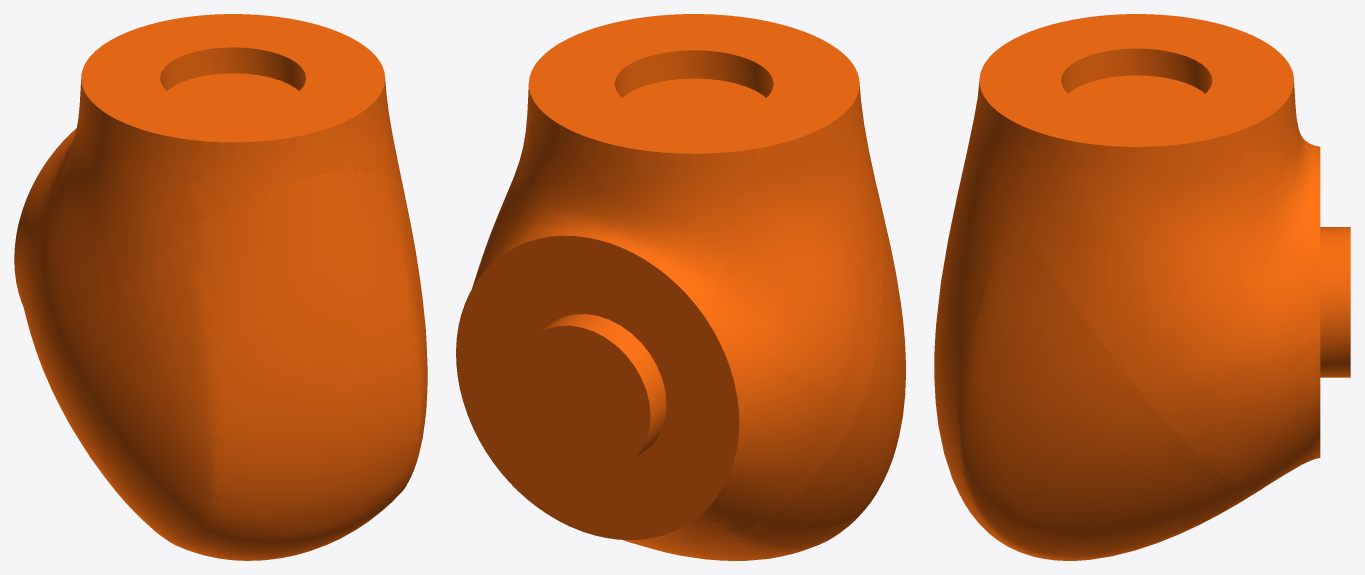
3 views of the same model, side by side, from view 1: azimuth 30°, elevation 25°; view 2: azimuth 150°, elevation 25°; view 3: azimuth 270°, elevation 25° (orthographic). The views are drawn at different scales.
Visible parts, largest first — view 1: link_6; view 2: link_6; view 3: link_6.
Part boxes in pixels (x1,y1,x2,y2): link_6: (14,14,427,560); link_6: (456,14,905,560); link_6: (934,14,1350,560).
Bounding box in the file's own units: 0.1323 × 0.1674 × 0.1376.
